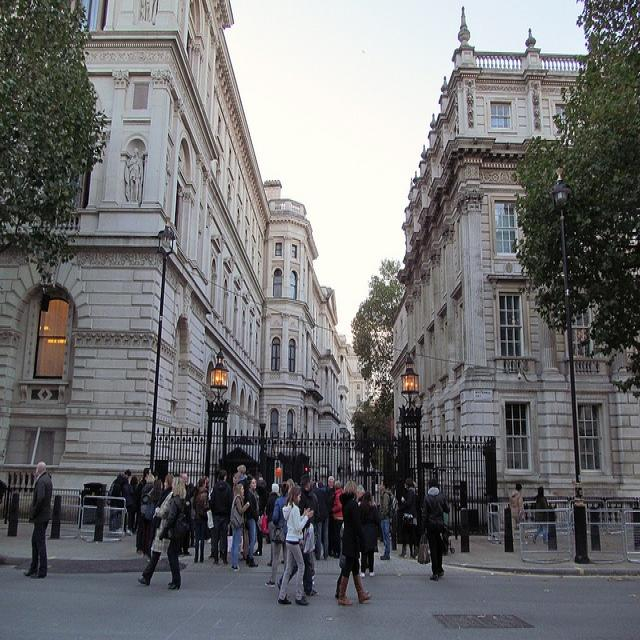body: (136, 474, 187, 590), (336, 477, 373, 607), (276, 484, 314, 607), (138, 472, 176, 588), (335, 483, 371, 601), (23, 458, 53, 578), (418, 476, 451, 583), (263, 480, 290, 588), (228, 482, 252, 574), (209, 466, 230, 566), (357, 492, 379, 580), (299, 476, 321, 561), (143, 477, 164, 564), (242, 473, 261, 567), (106, 467, 132, 533), (134, 467, 153, 556), (191, 476, 210, 564), (138, 472, 157, 559), (397, 477, 416, 560), (174, 471, 192, 558), (377, 478, 395, 562), (264, 483, 281, 568), (251, 473, 267, 556), (329, 478, 344, 558), (531, 484, 549, 547), (326, 474, 339, 558), (509, 481, 527, 539), (196, 476, 212, 541), (123, 473, 135, 538), (298, 562, 317, 594), (390, 536, 416, 559), (232, 471, 246, 505), (234, 464, 249, 487), (315, 480, 328, 500), (206, 524, 213, 561), (185, 481, 195, 500), (285, 477, 295, 495), (154, 468, 160, 480)
